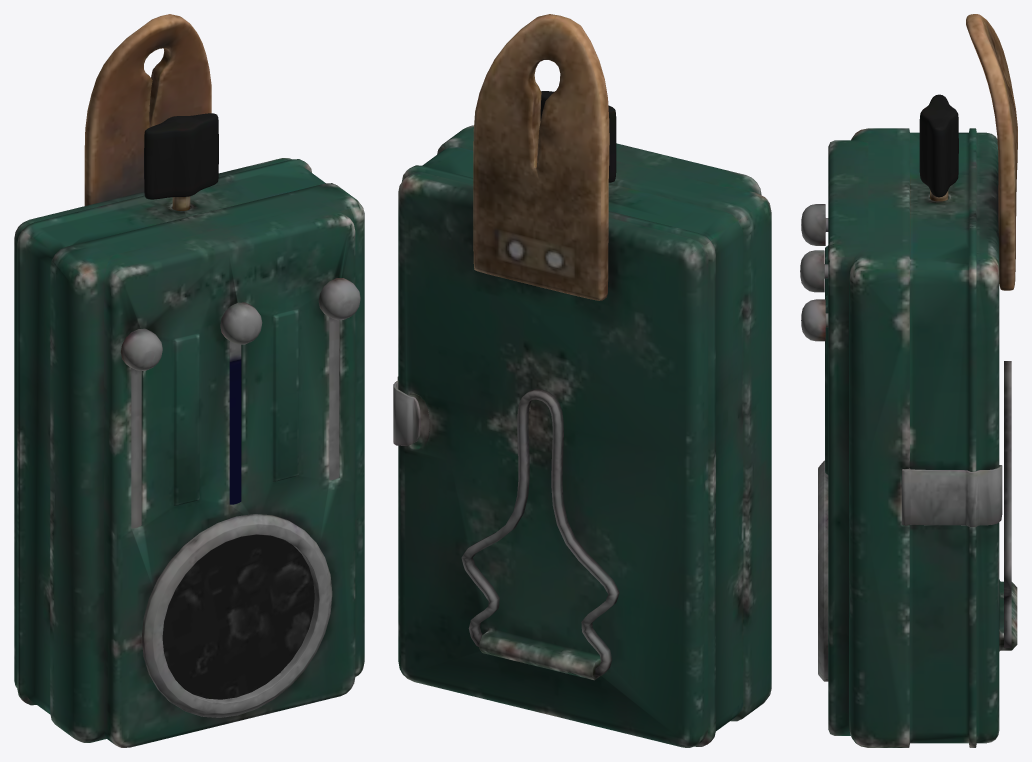
The model's file is signal_flashlight.glb.
3 renders of one model, left to right at view 1: azimuth 30°, elevation 25°; view 2: azimuth 150°, elevation 25°; view 3: azimuth 270°, elevation 25°, orthographic. The views are drawn at different scales.
Parts seen in each view (by area): view 1: signal_flashlight_clip, signal_flashlight; view 2: signal_flashlight_clip; view 3: signal_flashlight_clip.
Boxes of the visible parts, <box> form: signal_flashlight_clip: <box>14,14,364,747</box>; signal_flashlight: <box>162,358,314,699</box>; signal_flashlight_clip: <box>393,14,771,747</box>; signal_flashlight_clip: <box>800,14,1017,747</box>.
Bounding box in the file's own units: 0.071 × 0.1499 × 0.0445.
2 materials, 2 textured.
